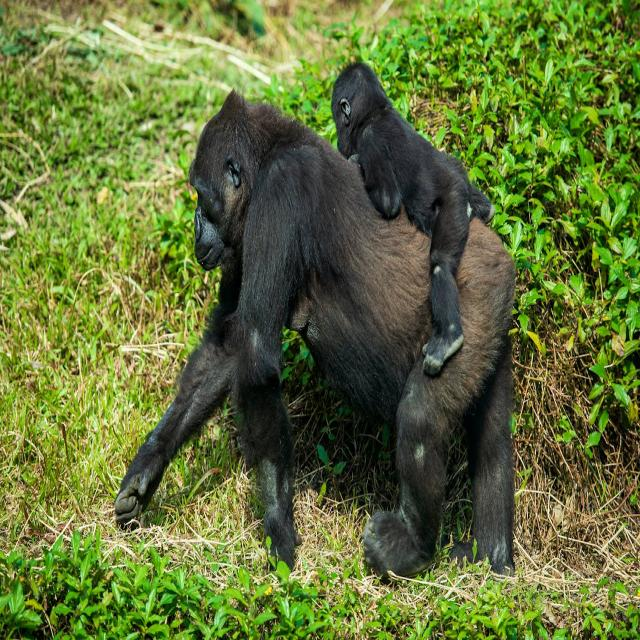Gorilla: (113, 86, 517, 582), (331, 60, 497, 377)
